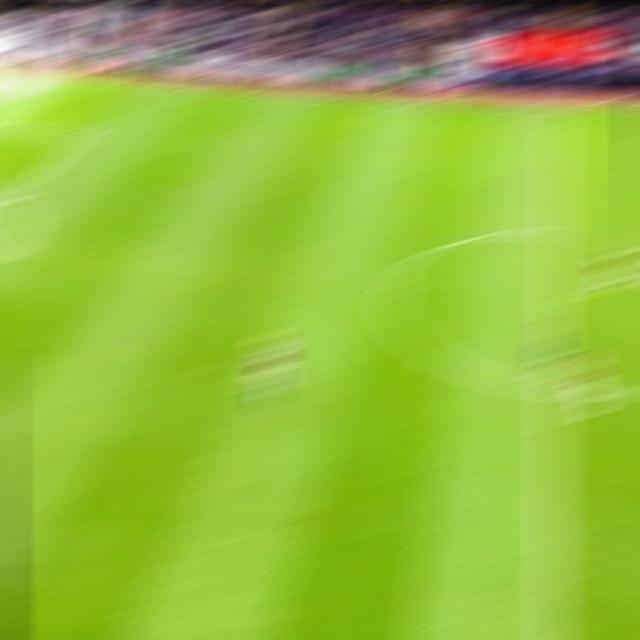bigarea_top_inner: (68, 129, 96, 143)
halfcircle_bottom: (536, 378, 570, 403)
halfcircle_top: (536, 218, 576, 246)
midline_top_intersection: (542, 98, 575, 119)
top_arc_area_intersection: (0, 190, 26, 204)
